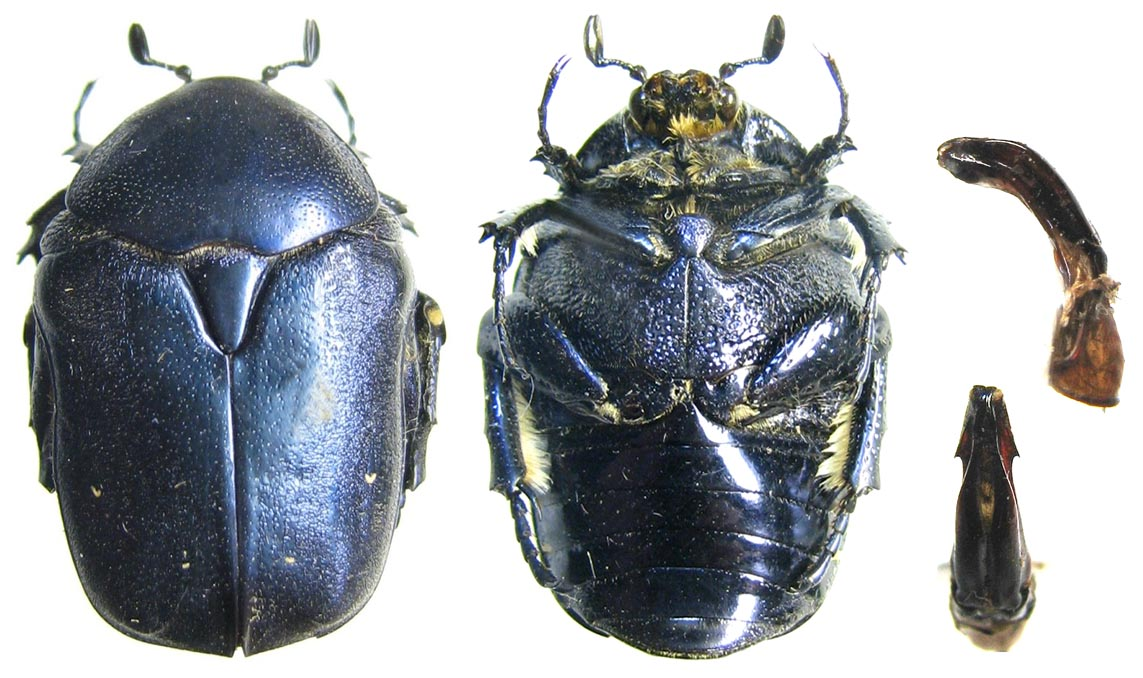Protaetia_ungarica: (17, 12, 443, 678)
